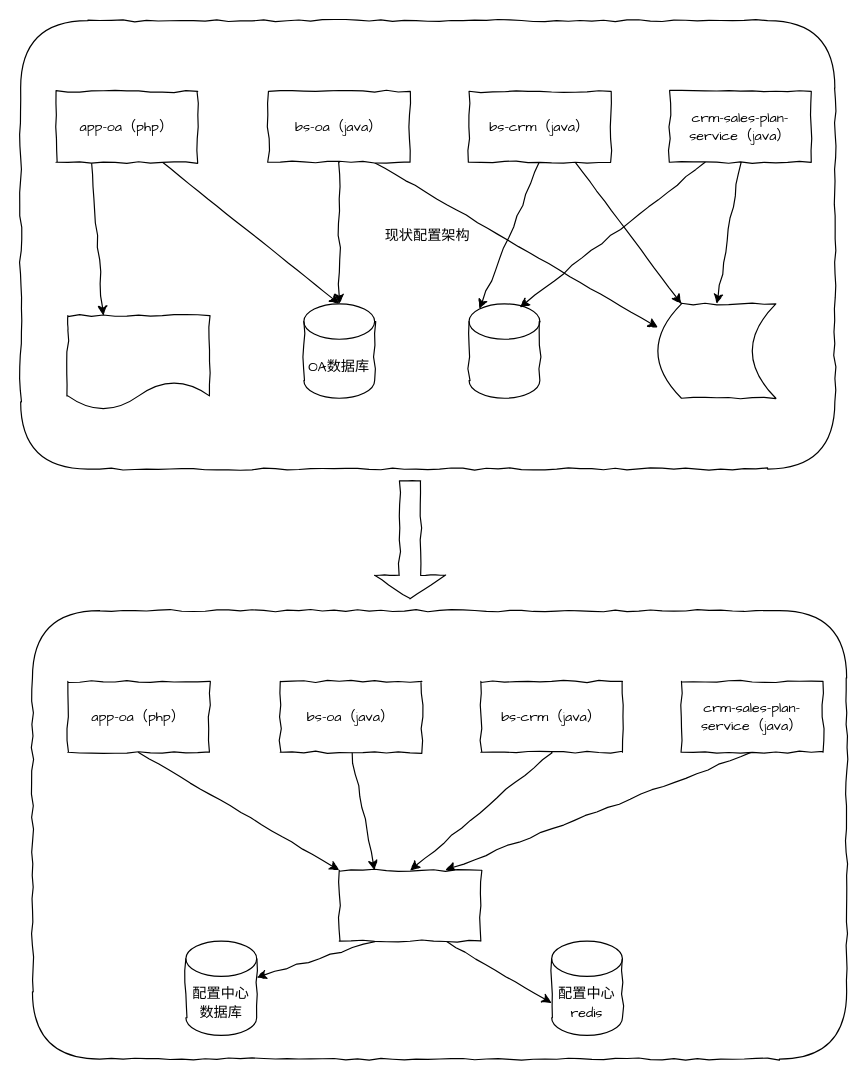
Some shapes in this 867 by 1080 pixel diagram are drawn without their labels. Here are the shapes that lost their labels. From the top down, the box of each, then its label:
(67, 314, 209, 410): env
(468, 303, 540, 398): crm数据库
(657, 303, 776, 398): Apollo
(373, 480, 445, 599): 转变
(31, 609, 847, 1059): 新的配置架构
(338, 869, 481, 941): 配置中心服务（java）
